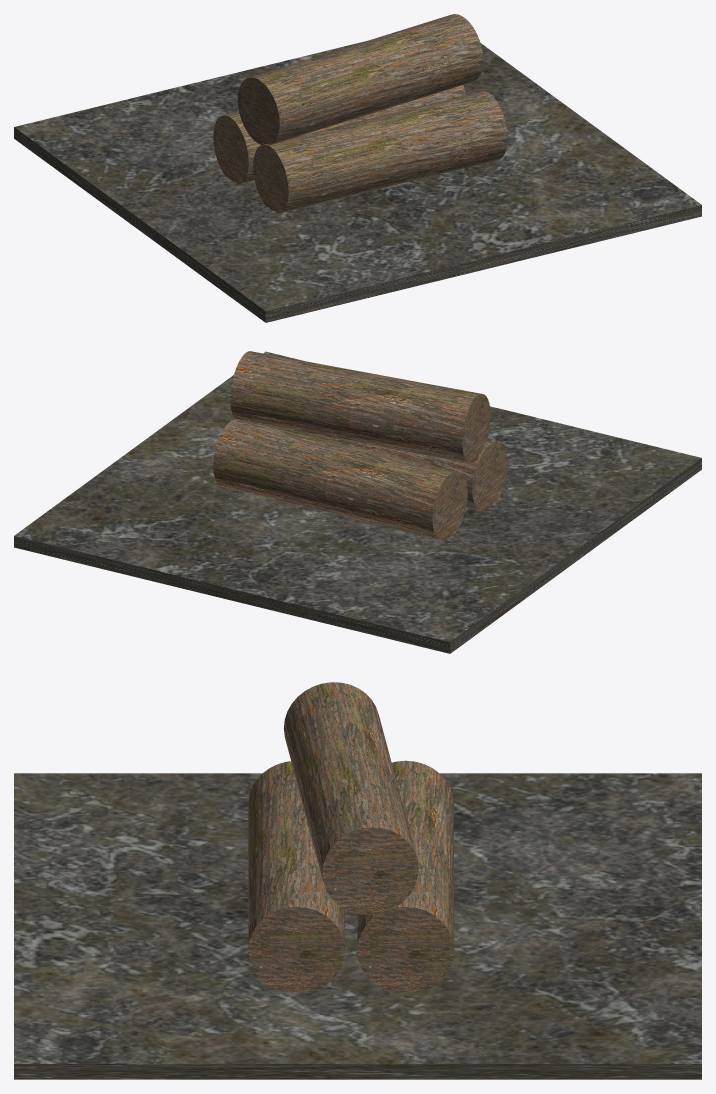
File: campfire.glb
3 views of the same model, one above another, from view 1: azimuth 30°, elevation 25°; view 2: azimuth 150°, elevation 25°; view 3: azimuth 270°, elevation 25° (orthographic). The views are drawn at different scales.
Visible parts, largest first — view 1: Cube, Cylinder.001, Cylinder.002, Cylinder; view 2: Cube, Cylinder.002, Cylinder, Cylinder.001; view 3: Cube, Cylinder.002, Cylinder.001, Cylinder.
Part boxes in pixels (x1,y1,x2,y2): Cube: (14,41,701,322); Cylinder.001: (253,91,507,213); Cylinder.002: (237,14,483,144); Cylinder: (213,85,465,184); Cube: (14,351,701,653); Cylinder.002: (230,351,490,463); Cylinder: (213,419,467,540); Cylinder.001: (278,428,507,511); Cube: (14,773,701,1079); Cylinder.002: (283,682,418,914); Cylinder.001: (248,761,344,991); Cylinder: (357,760,453,991).
Bounding box in the file's own units: 1.54 × 0.4441 × 1.54.
2 materials, 2 textured.
